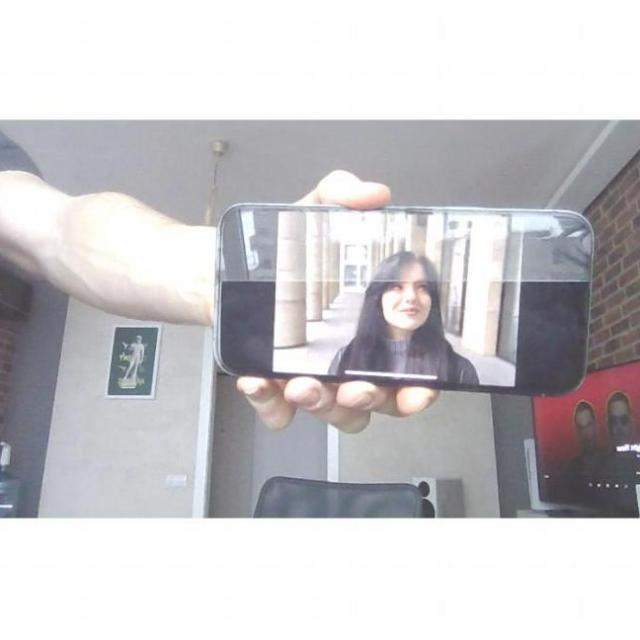device: (188, 190, 603, 410)
